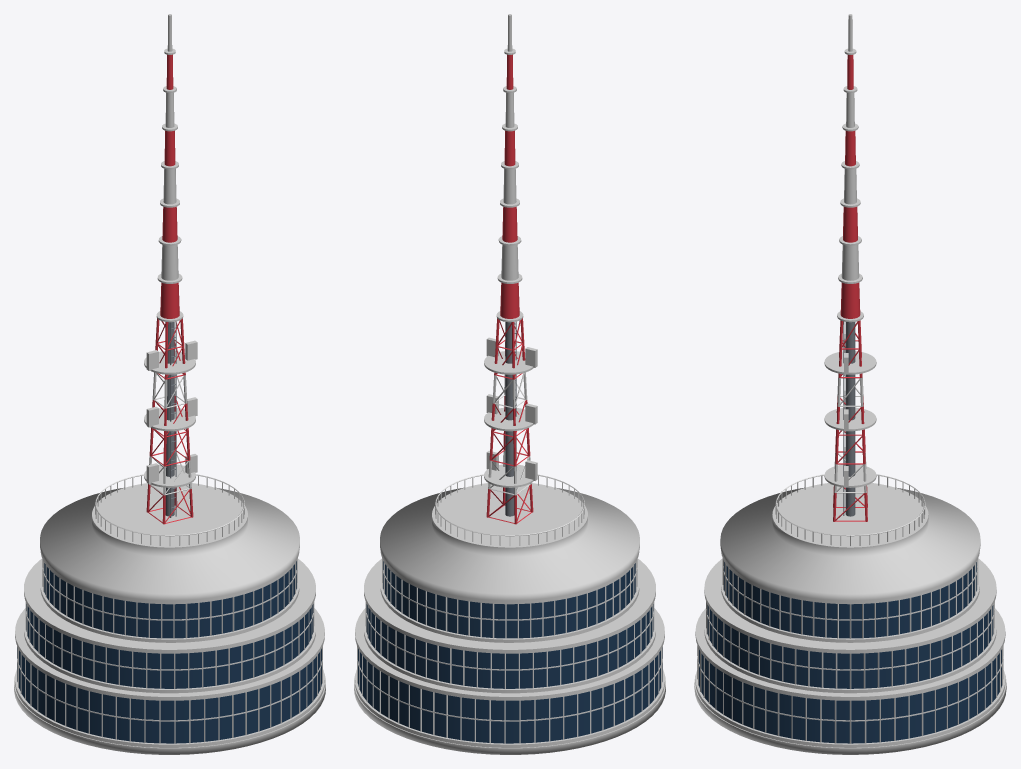
Rendered from top-prebuilt_close.fbx.
The picture shows the model from 3 angles, left to right: view 1: azimuth 30°, elevation 25°; view 2: azimuth 150°, elevation 25°; view 3: azimuth 270°, elevation 25°; orthographic projection.
Visible parts, largest first — view 1: landmark-great_tower/0/top-prebuilt_close; view 2: landmark-great_tower/0/top-prebuilt_close; view 3: landmark-great_tower/0/top-prebuilt_close.
Boxes of the visible parts, bbox=[...] form: landmark-great_tower/0/top-prebuilt_close: bbox=[14, 14, 325, 754]; landmark-great_tower/0/top-prebuilt_close: bbox=[354, 14, 665, 754]; landmark-great_tower/0/top-prebuilt_close: bbox=[694, 14, 1006, 754].
Bounding box in the file's own units: 30 × 75 × 30.
